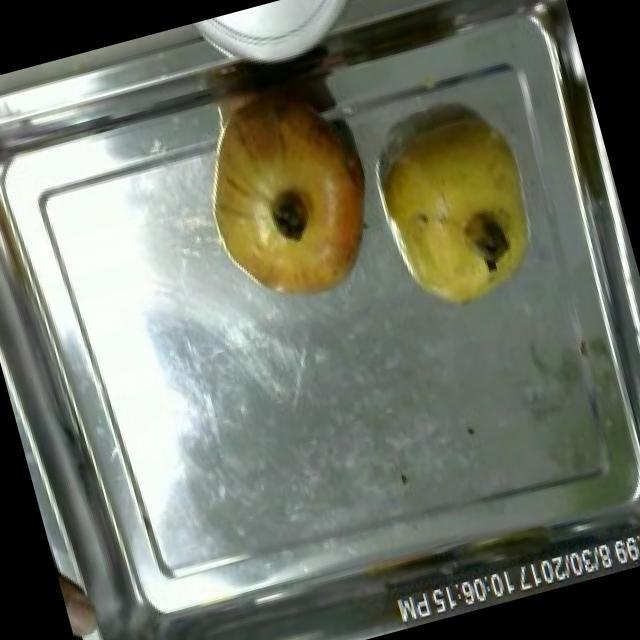fruit: (178, 68, 396, 325), (355, 86, 560, 330), (52, 548, 108, 640)
